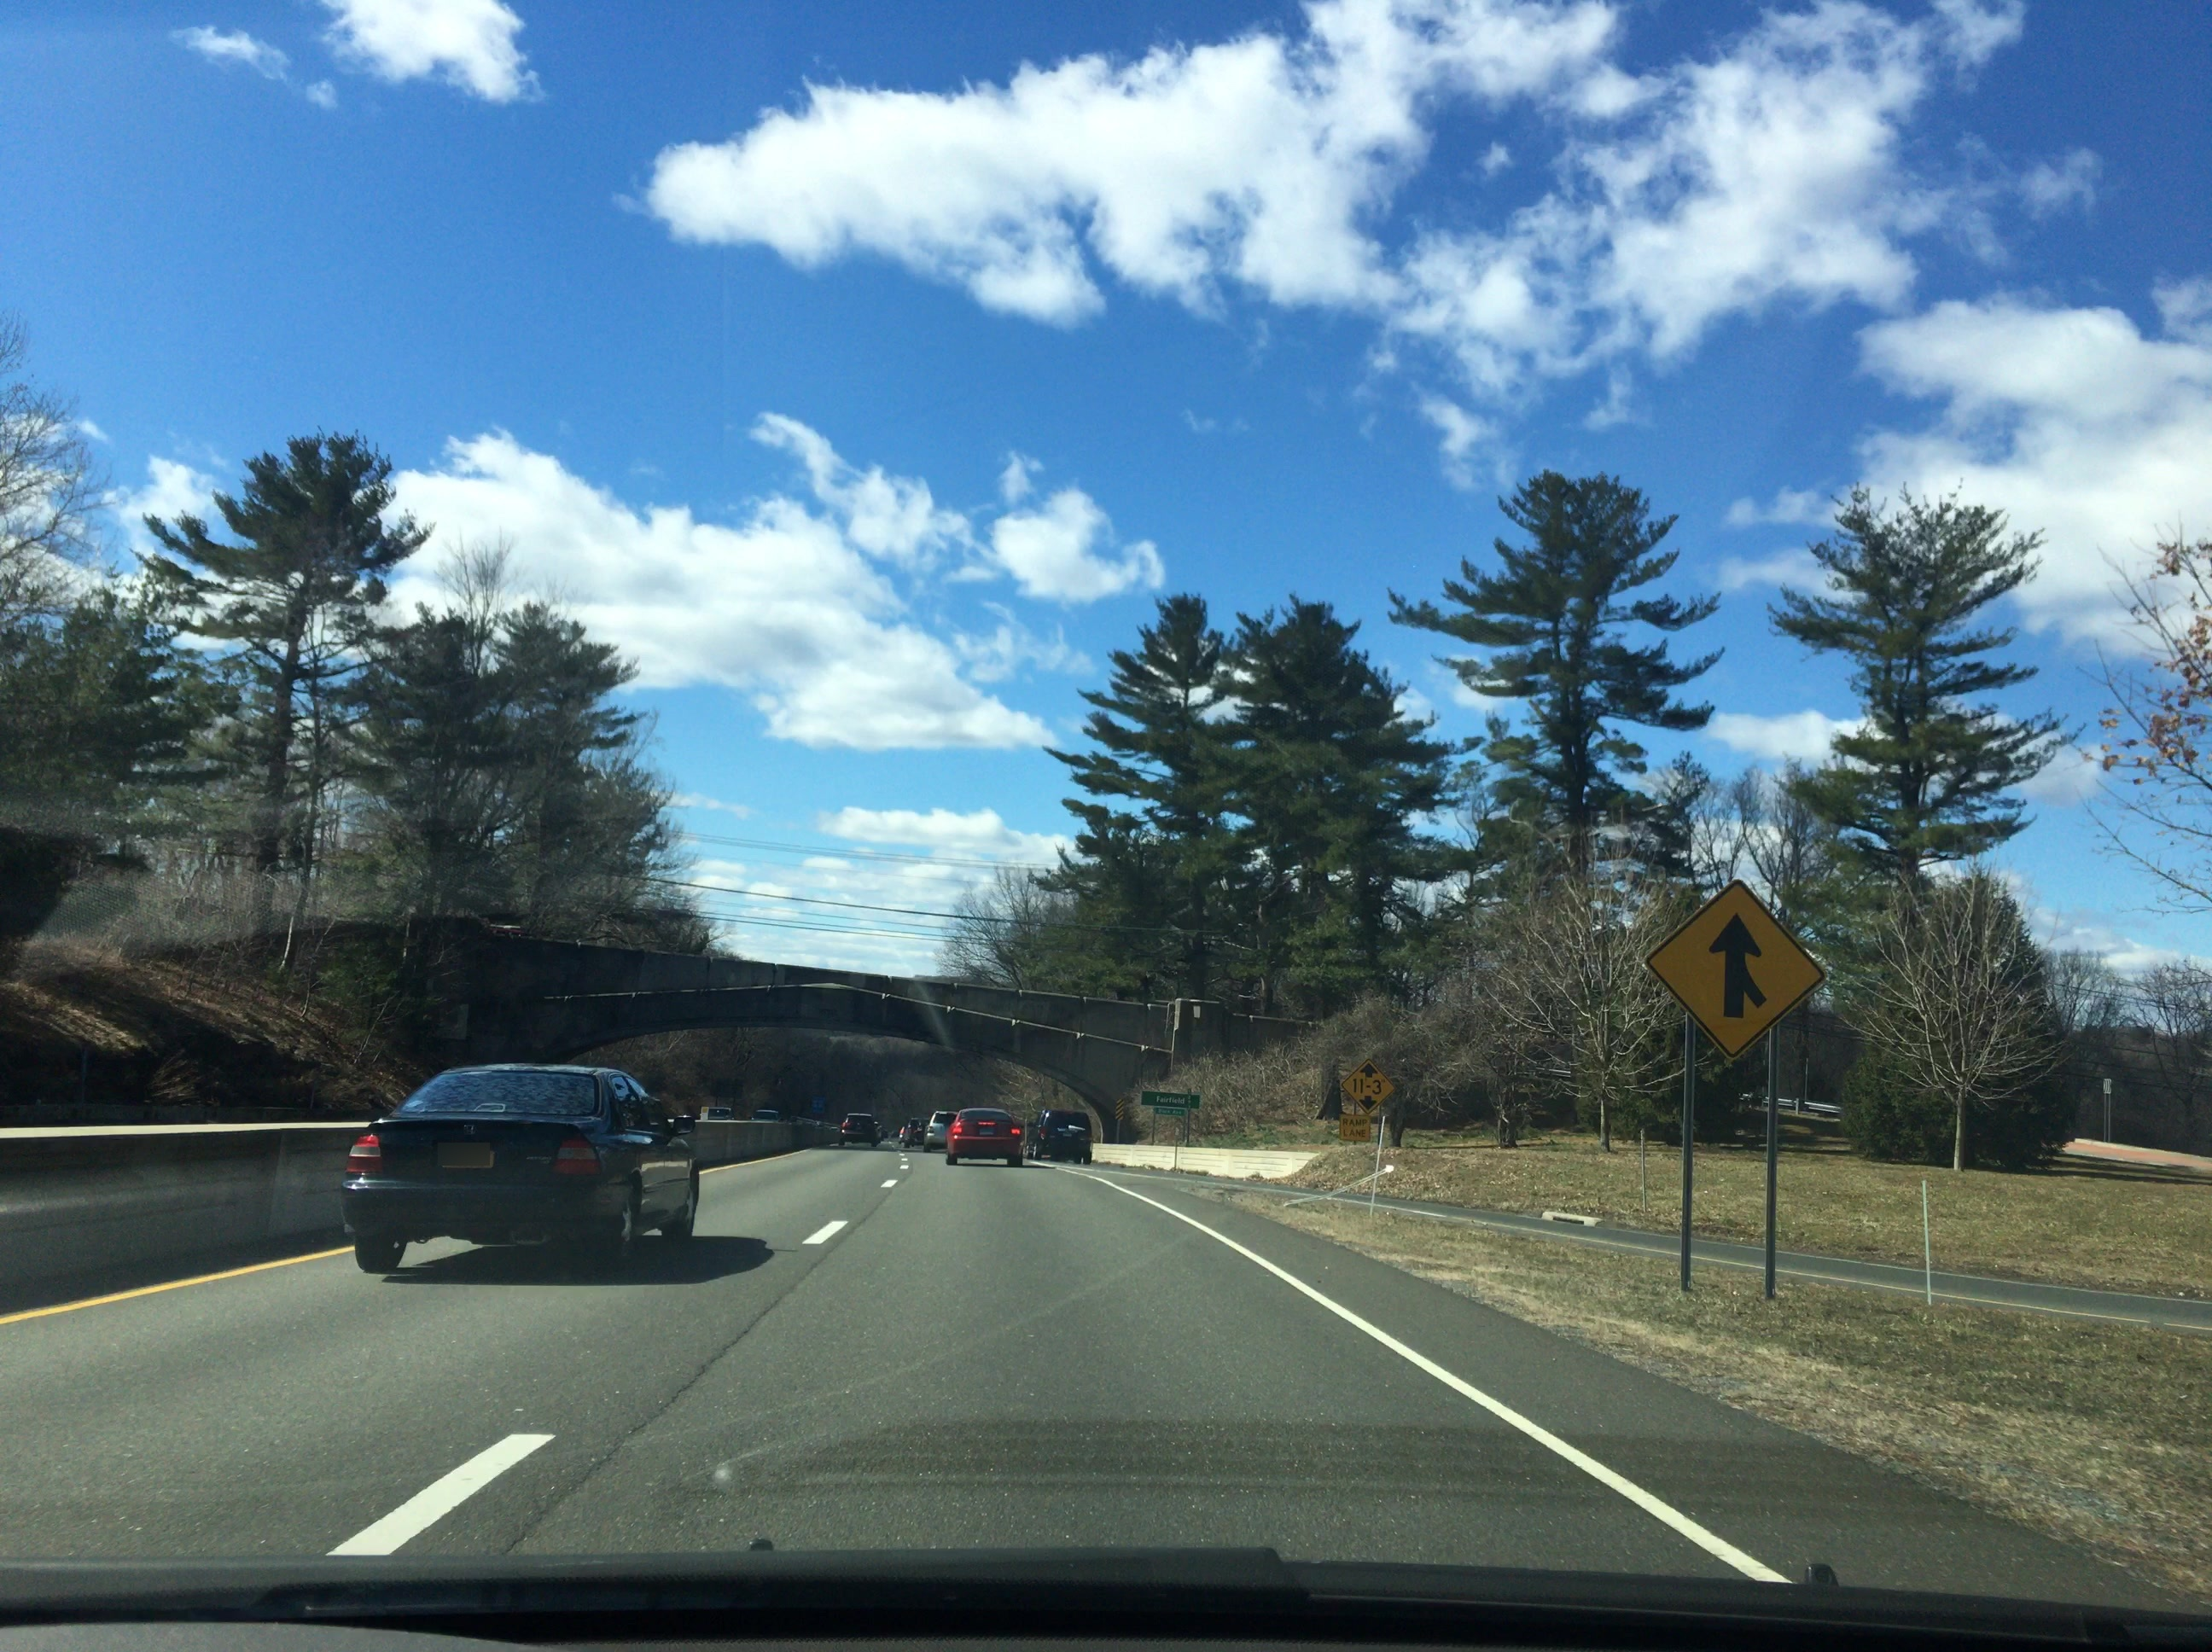low-clearance-sign: (1341, 1057, 1397, 1116)
